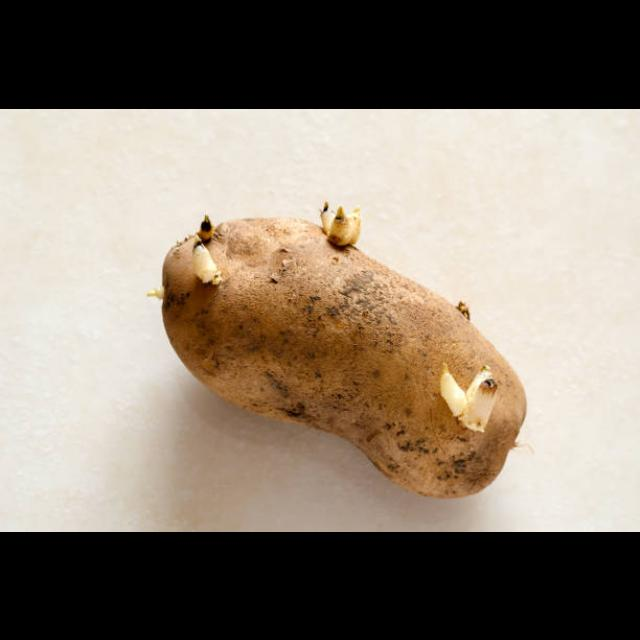Sprouted potato: (140, 198, 538, 502)
